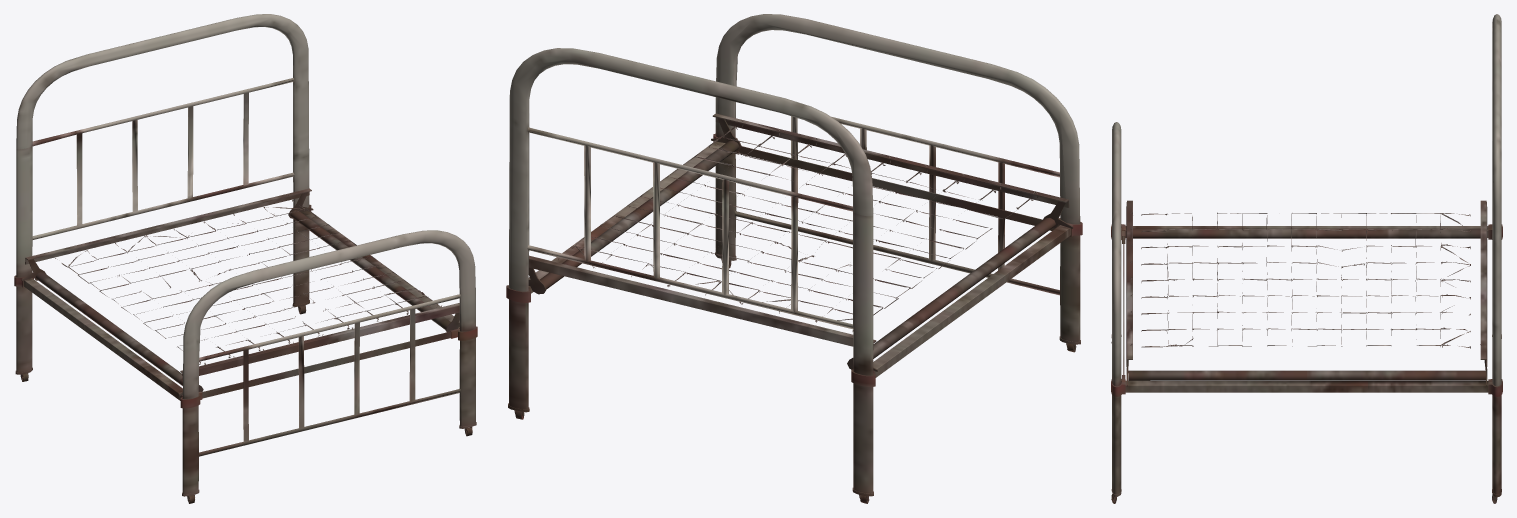
The model's file is ph-old-bed-frame.glb.
3 views of the same model, side by side, from view 1: azimuth 30°, elevation 25°; view 2: azimuth 150°, elevation 25°; view 3: azimuth 270°, elevation 25° (orthographic). The views are drawn at different scales.
Parts seen in each view (by area): view 1: old_bed_frame; view 2: old_bed_frame; view 3: old_bed_frame.
Boxes of the visible parts, x1,y1,x2,y2 form: old_bed_frame: [14, 14, 477, 503]; old_bed_frame: [506, 14, 1082, 503]; old_bed_frame: [1111, 14, 1502, 503].
Bounding box in the file's own units: 1 × 1 × 1.
Materials: 1 (1 with a texture image).
